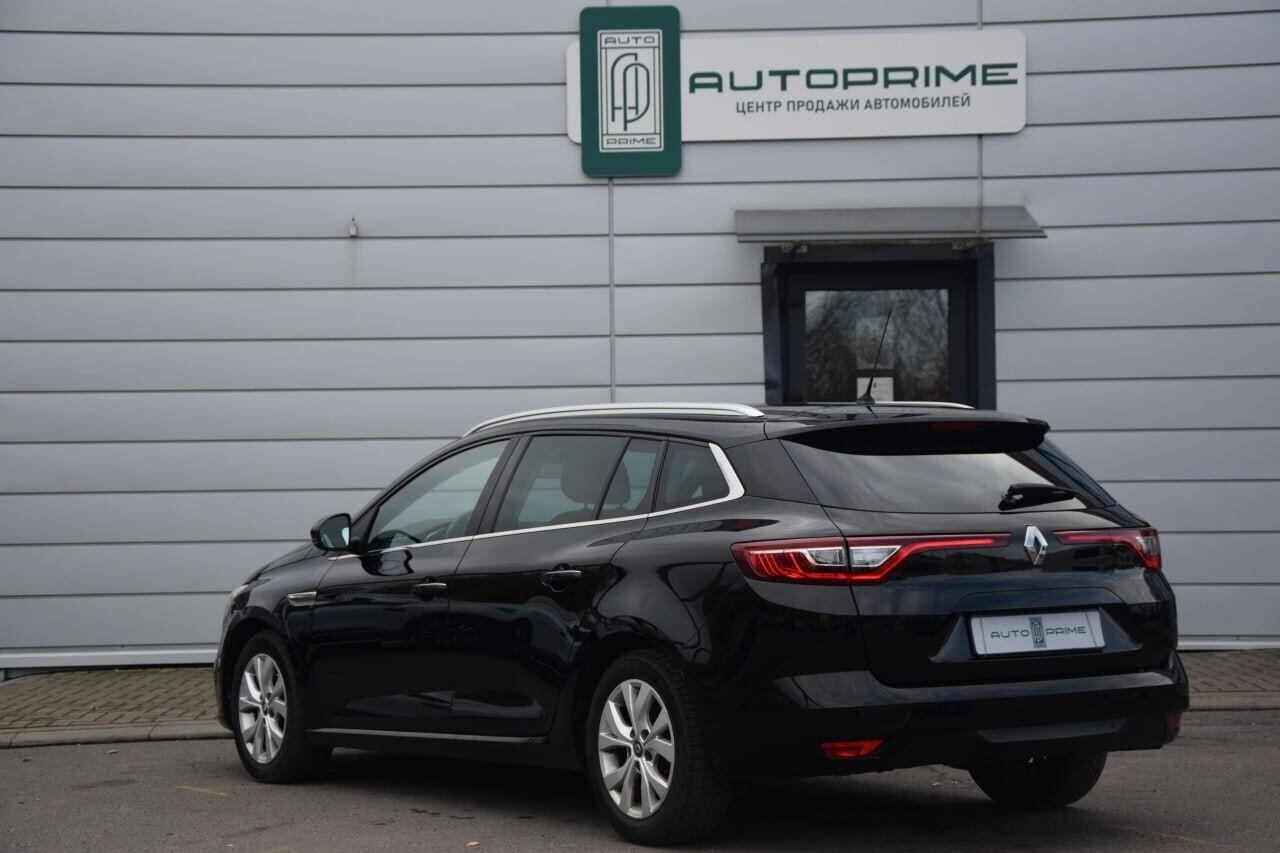Megane_2016-2020: (204, 396, 1198, 843)
